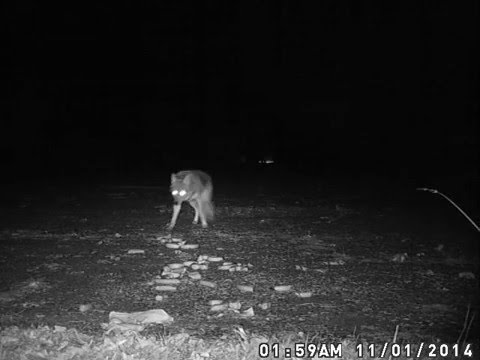coyote: (160, 163, 228, 240)
